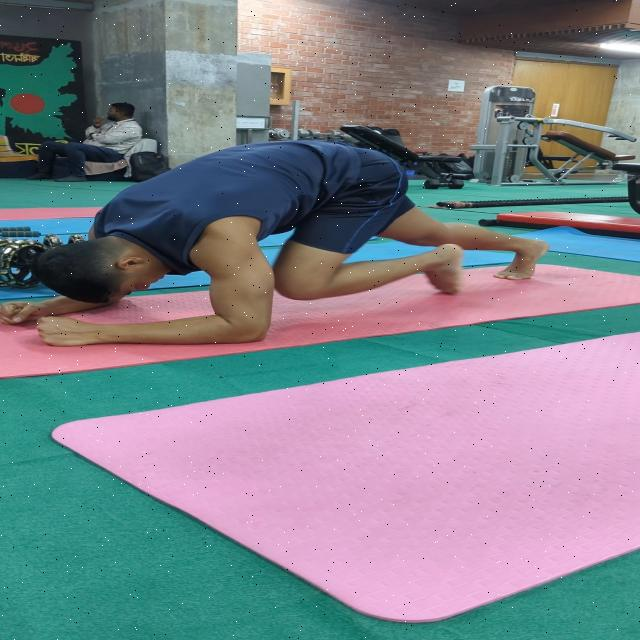Normal_MountainClimbers: (0, 130, 551, 386)
